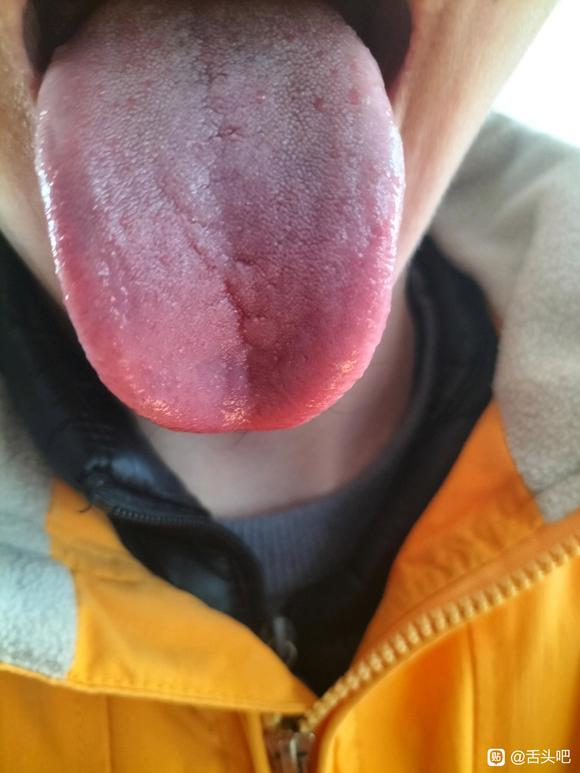baitaishe: (35, 1, 405, 435)
hongshe: (35, 1, 405, 435)
liewenshe: (188, 240, 281, 388)
